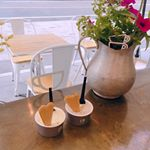cups: (32, 105, 66, 138), (62, 95, 96, 127)
